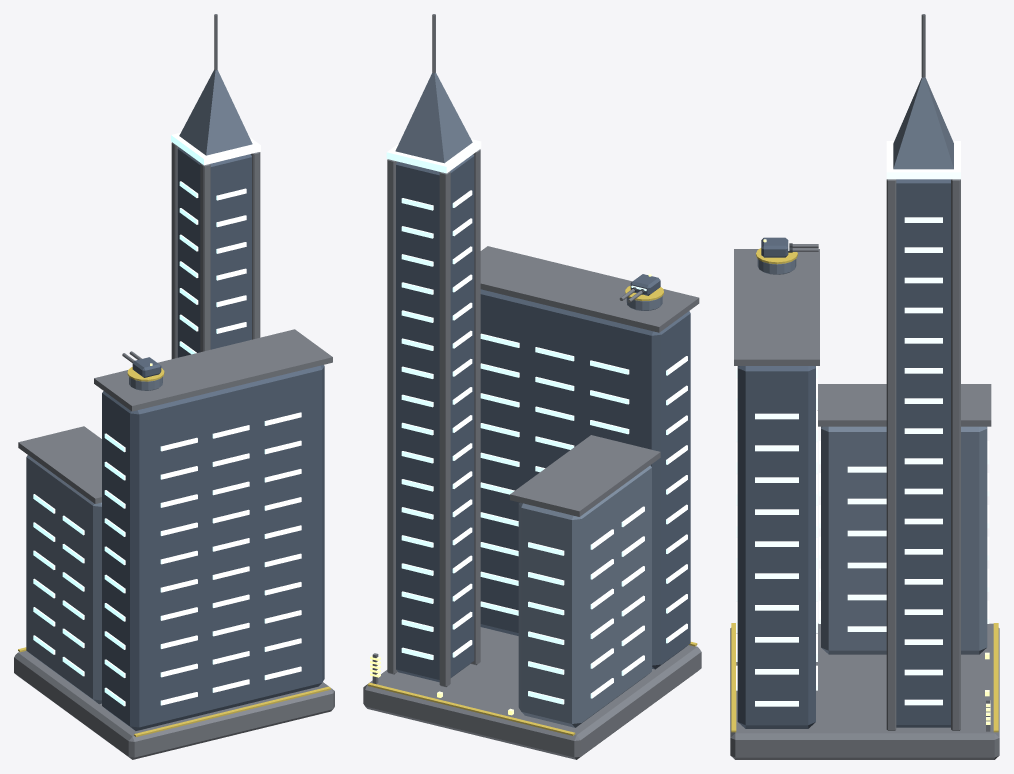
File: zone_high_6_t5.glb
3 renders of one model, left to right at view 1: azimuth 30°, elevation 25°; view 2: azimuth 150°, elevation 25°; view 3: azimuth 270°, elevation 25°, orthographic. The views are drawn at different scales.
Visible parts, largest first — view 1: zone_high_6_t5, detail; view 2: zone_high_6_t5, detail; view 3: zone_high_6_t5, detail.
Part boxes in pixels (x1=…): zone_high_6_t5: x1=14, y1=69, x2=334, y2=759; detail: x1=18, y1=14, x2=330, y2=737; zone_high_6_t5: x1=363, y1=72, x2=701, y2=759; detail: x1=367, y1=14, x2=697, y2=735; zone_high_6_t5: x1=730, y1=77, x2=999, y2=759; detail: x1=731, y1=14, x2=998, y2=732.
Size of the model in its own units: 27.5 by 82.06 by 27.5.
